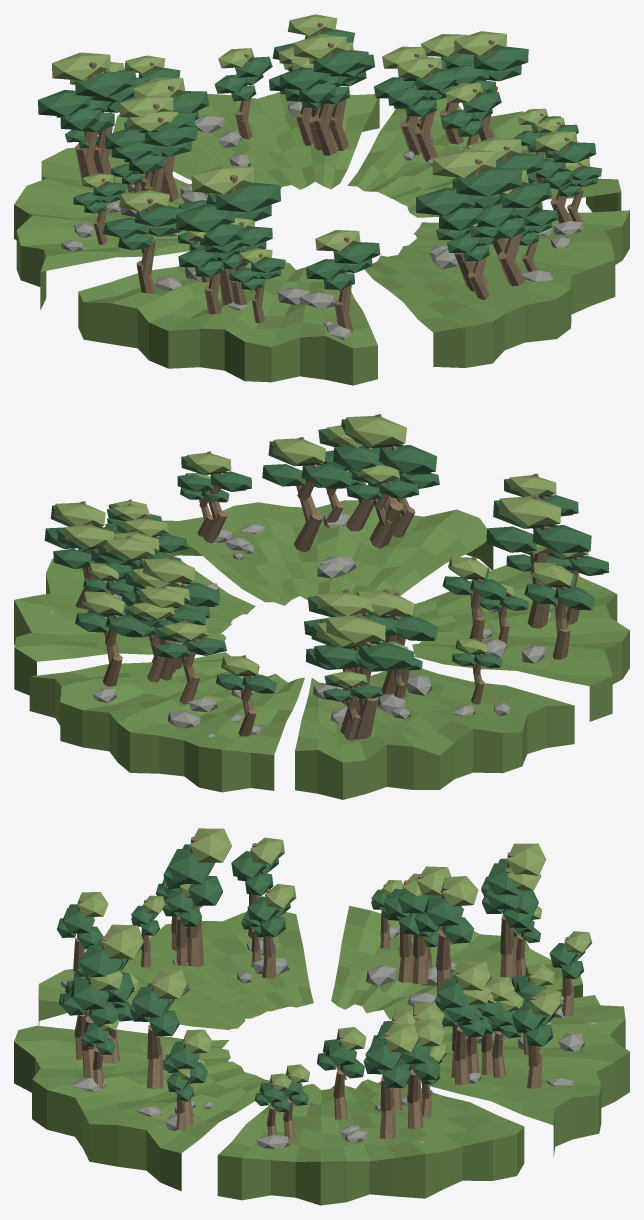
The model's file is saihoji-surroundings-v2.glb.
The picture shows the model from 3 angles, top to bottom: view 1: azimuth 30°, elevation 25°; view 2: azimuth 150°, elevation 25°; view 3: azimuth 270°, elevation 25°; orthographic projection.
Visible parts, largest first — view 1: moss-entry_continuous_moss_terrain, return-view_continuous_moss_terrain, dry-cascade_continuous_moss_terrain, master-stones_continuous_moss_terrain, moss-islands_continuous_moss_terrain, moss-entry_pine_0, return-view_pine_1, master-stones_pine_1, dry-cascade_pine_4, moss-entry_pine_3, moss-islands_pine_1, moss-entry_pine_4 (+27 smaller); view 2: master-stones_continuous_moss_terrain, dry-cascade_continuous_moss_terrain, return-view_continuous_moss_terrain, moss-entry_continuous_moss_terrain, moss-islands_continuous_moss_terrain, moss-entry_pine_0, return-view_pine_1, master-stones_pine_1, return-view_pine_3, moss-entry_pine_3, dry-cascade_pine_2, return-view_pine_2 (+27 smaller); view 3: moss-islands_continuous_moss_terrain, return-view_continuous_moss_terrain, dry-cascade_continuous_moss_terrain, moss-entry_continuous_moss_terrain, master-stones_continuous_moss_terrain, moss-entry_pine_0, return-view_pine_3, moss-islands_pine_1, master-stones_pine_4, return-view_pine_1, return-view_pine_6, dry-cascade_pine_2 (+30 smaller).
Part boxes in pixels (<box>): moss-entry_continuous_moss_terrain: <box>78,262,377,385</box>; return-view_continuous_moss_terrain: <box>364,210,629,367</box>; dry-cascade_continuous_moss_terrain: <box>109,92,379,189</box>; master-stones_continuous_moss_terrain: <box>14,147,208,309</box>; moss-islands_continuous_moss_terrain: <box>347,97,621,217</box>; moss-entry_pine_0: <box>176,164,280,305</box>; return-view_pine_1: <box>416,148,522,291</box>; master-stones_pine_1: <box>38,52,136,187</box>; dry-cascade_pine_4: <box>279,34,368,155</box>; moss-entry_pine_3: <box>102,190,187,293</box>; moss-islands_pine_1: <box>447,31,528,141</box>; moss-entry_pine_4: <box>306,230,380,331</box>; master-stones_continuous_moss_terrain: <box>295,668,574,799</box>; dry-cascade_continuous_moss_terrain: <box>29,652,304,792</box>; return-view_continuous_moss_terrain: <box>162,500,493,605</box>; moss-entry_continuous_moss_terrain: <box>412,565,629,721</box>; moss-islands_continuous_moss_terrain: <box>14,551,255,695</box>; moss-entry_pine_0: <box>486,494,591,628</box>; return-view_pine_1: <box>333,414,436,546</box>; master-stones_pine_1: <box>314,613,414,739</box>; return-view_pine_3: <box>262,437,351,552</box>; moss-entry_pine_3: <box>524,562,594,659</box>; dry-cascade_pine_2: <box>75,591,146,686</box>; return-view_pine_2: <box>177,451,251,543</box>; moss-islands_continuous_moss_terrain: <box>217,1079,524,1205</box>; return-view_continuous_moss_terrain: <box>14,1025,269,1191</box>; dry-cascade_continuous_moss_terrain: <box>421,995,629,1157</box>; moss-entry_continuous_moss_terrain: <box>38,912,313,1029</box>; master-stones_continuous_moss_terrain: <box>331,906,582,1019</box>; moss-entry_pine_0: <box>163,828,231,967</box>; return-view_pine_3: <box>129,969,187,1088</box>; moss-islands_pine_1: <box>363,1023,419,1138</box>; master-stones_pine_4: <box>424,876,478,995</box>; return-view_pine_1: <box>76,924,144,1063</box>; return-view_pine_6: <box>61,970,122,1077</box>; dry-cascade_pine_2: <box>512,989,563,1088</box>.
Size of the model in its own units: 27.32 by 8.05 by 27.22.
